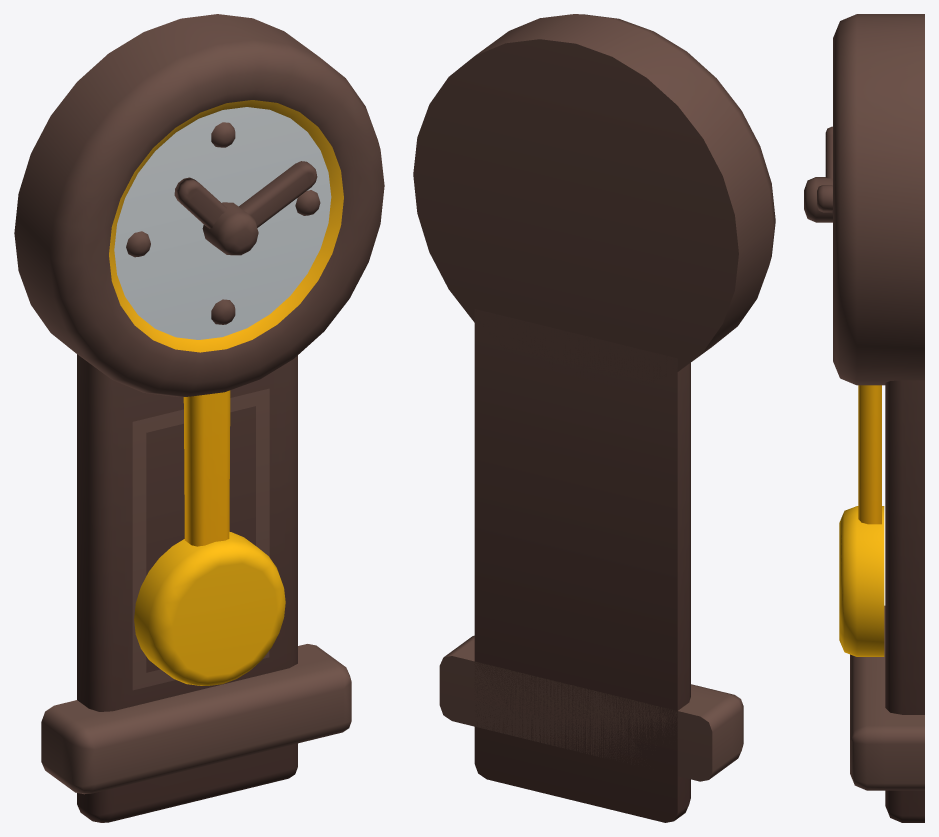
The model's file is Clock_001.fbx.
The picture shows the model from 3 angles, left to right: view 1: azimuth 30°, elevation 25°; view 2: azimuth 150°, elevation 25°; view 3: azimuth 270°, elevation 25°; orthographic projection. The views are drawn at different scales.
Visible parts, largest first — view 1: Clock_001; view 2: Clock_001; view 3: Clock_001.
Part boxes in pixels (box(x1,y1,x2,y2)): Clock_001: box(14, 14, 384, 822); Clock_001: box(413, 14, 775, 822); Clock_001: box(804, 14, 924, 822).
Size of the model in its own units: 0.4372 by 0.9714 by 0.1423.
